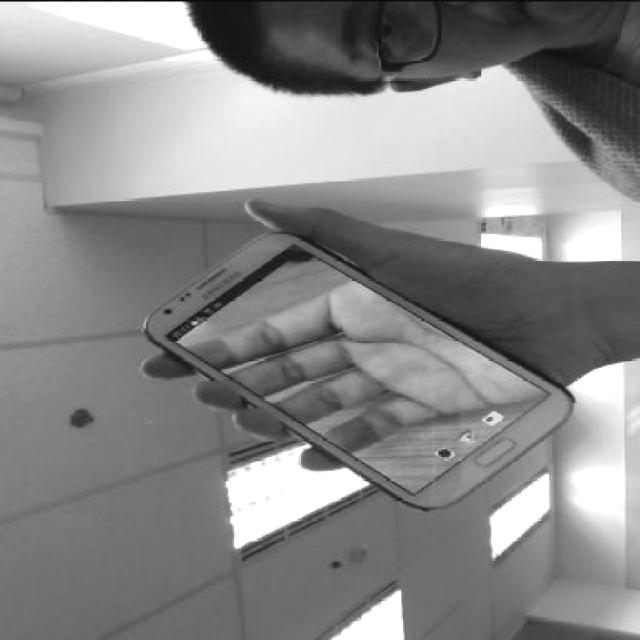fake: (140, 230, 577, 510)
